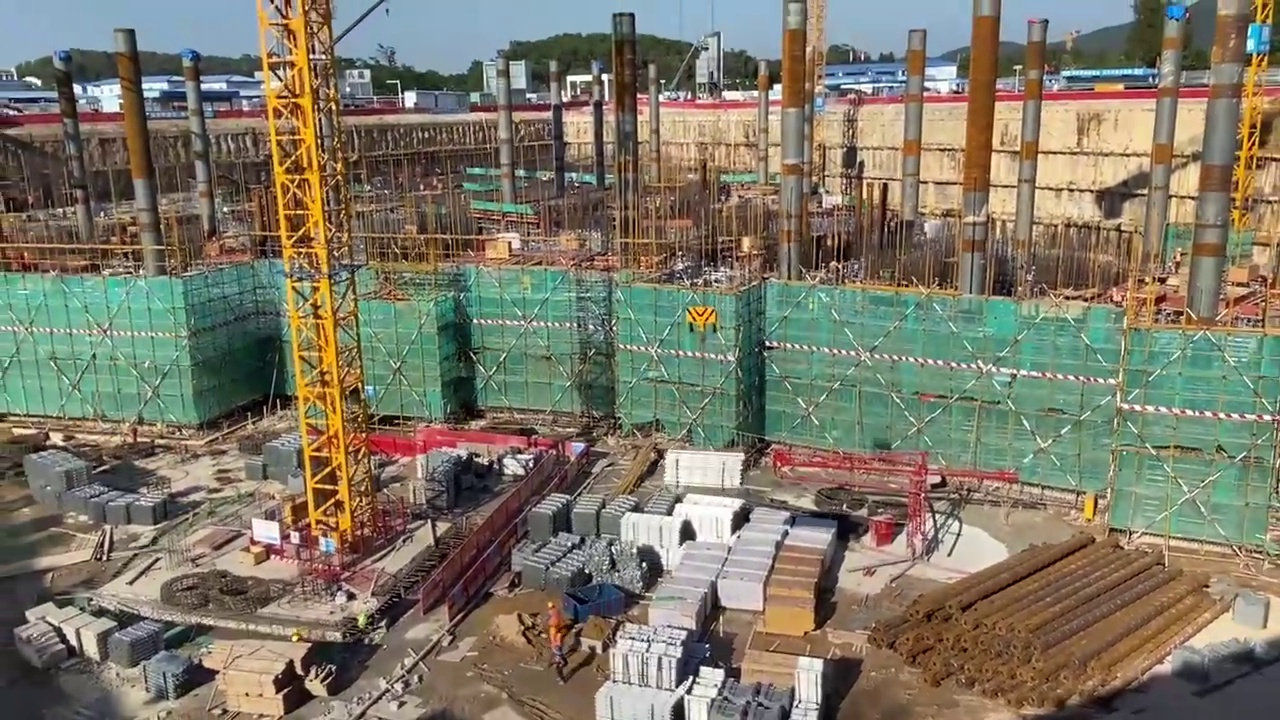board: (772, 547, 819, 630)
fence: (405, 425, 588, 467)
hook: (685, 307, 718, 328)
person: (550, 644, 568, 689), (547, 626, 565, 659), (544, 600, 562, 633)
rebar: (857, 529, 1238, 720)
scaffold: (521, 529, 643, 586), (610, 629, 691, 690), (530, 493, 639, 531), (70, 482, 165, 522), (29, 448, 87, 509), (673, 499, 744, 547), (594, 680, 678, 720), (621, 513, 676, 572), (666, 451, 750, 489), (145, 647, 194, 702), (106, 620, 165, 664), (266, 427, 301, 483)
wood: (206, 641, 312, 716)
